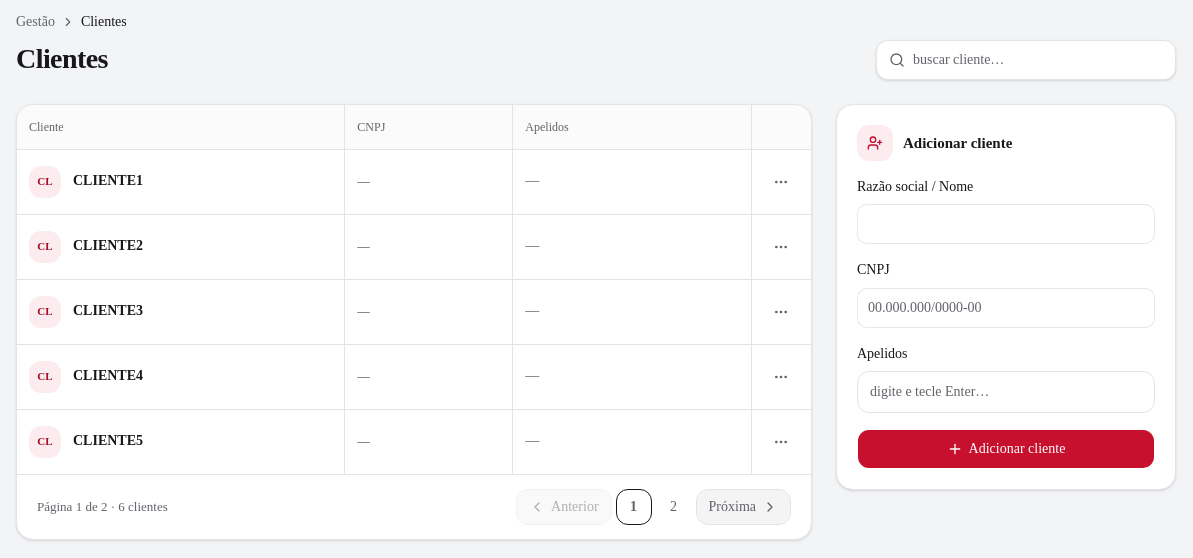
Test case: ClientesPage › pagina de 5 em 5, igual à Carteira e ao Histórico (pedido 17/09/2026)
Expected: the text "CLIENTE1" is shown, [73, 172, 143, 191]
Expected: the text "CLIENTE5" is shown, [73, 432, 143, 451]
Click the button "Próxima" at (743, 506), box [696, 488, 791, 524]
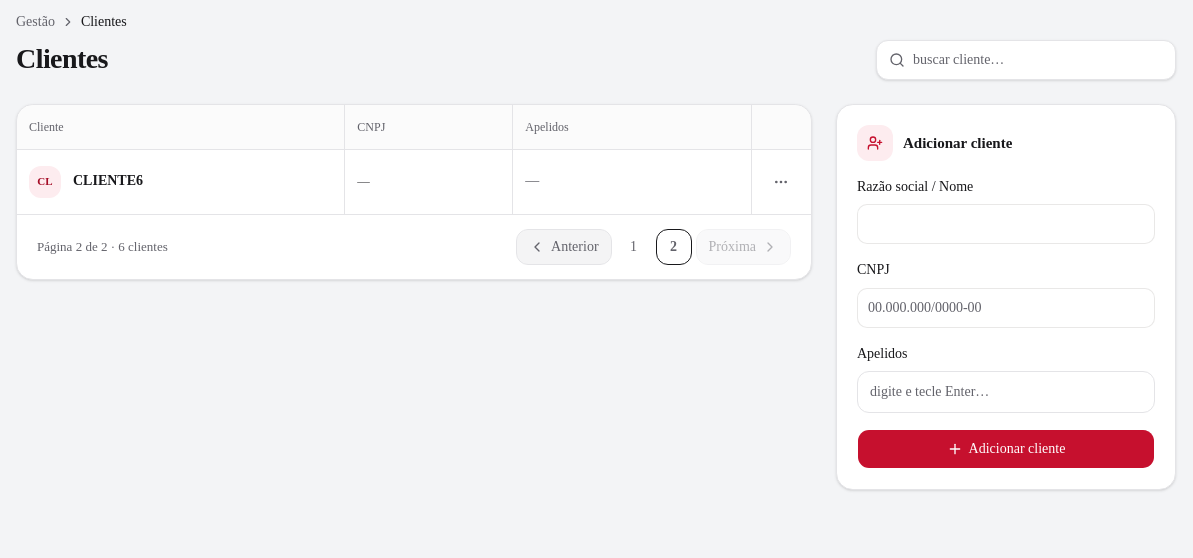
Expected: the text "CLIENTE6" is shown, [73, 172, 143, 191]
Expected: the text "CLIENTE1" is gone
